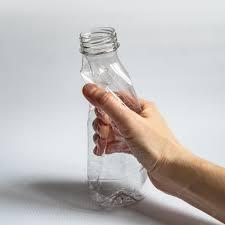BIODEGRADABLE: (67, 22, 156, 208)
